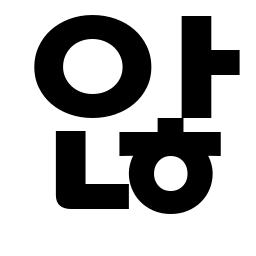Gaji: (174, 39, 228, 91)
